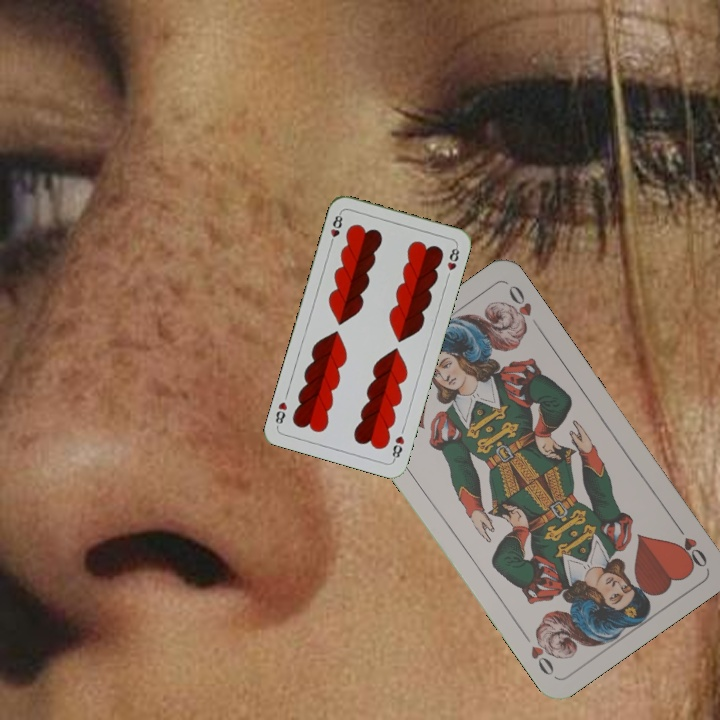H8: (326, 209, 345, 248), (388, 432, 407, 463)
HO: (670, 518, 710, 571)
